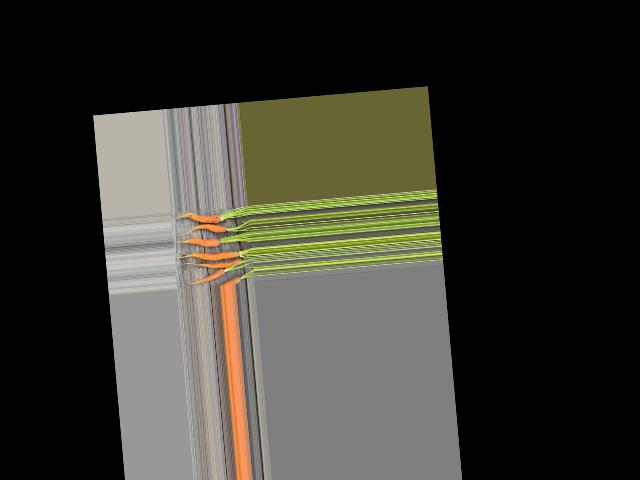carrot: (225, 272, 248, 285)
